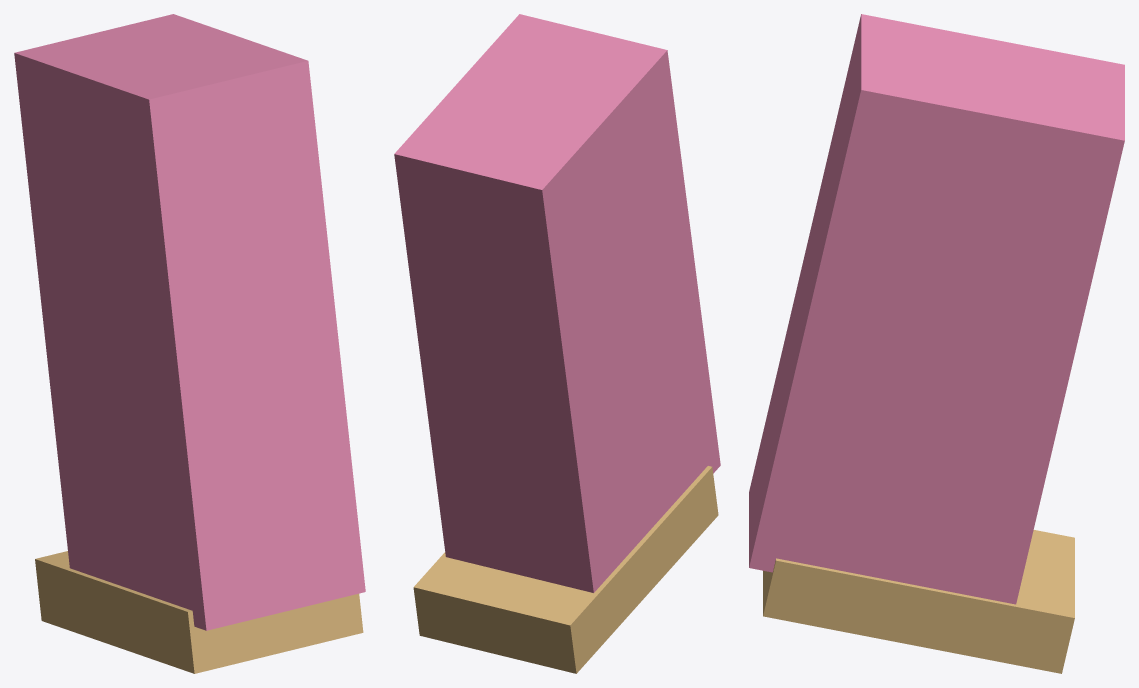
File: QuickdrawGrip.obj
The picture shows the model from 3 angles, left to right: view 1: azimuth 30°, elevation 25°; view 2: azimuth 150°, elevation 25°; view 3: azimuth 270°, elevation 25°; orthographic projection. The views are drawn at different scales.
Visible parts, largest first — view 1: QuickdrawGrip_Body, QuickdrawGrip_Detail; view 2: QuickdrawGrip_Body, QuickdrawGrip_Detail; view 3: QuickdrawGrip_Body, QuickdrawGrip_Detail.
Part boxes in pixels (bbox=[...]): QuickdrawGrip_Body: bbox=[14, 14, 365, 630]; QuickdrawGrip_Detail: bbox=[35, 551, 363, 673]; QuickdrawGrip_Body: bbox=[394, 14, 720, 592]; QuickdrawGrip_Detail: bbox=[413, 466, 718, 673]; QuickdrawGrip_Body: bbox=[749, 14, 1124, 604]; QuickdrawGrip_Detail: bbox=[763, 530, 1074, 673].
Bounding box in the file's own units: 0.106 × 0.3571 × 0.2091.
